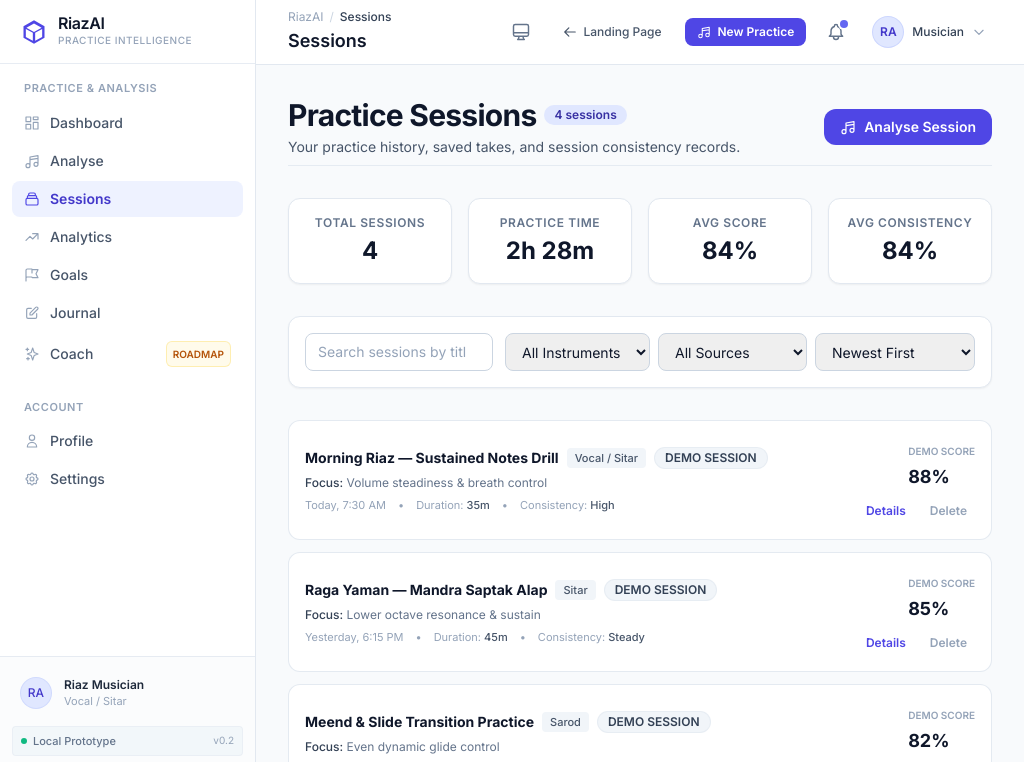
it: Milestone 5 — Sessions & Analytics › 3. Search and instrument filtering in Sessions works correctly
Search by title
Type "Yaman" into the search field labelled "Search sessions by title or focus..." at (399,352), box [305,333,493,371]
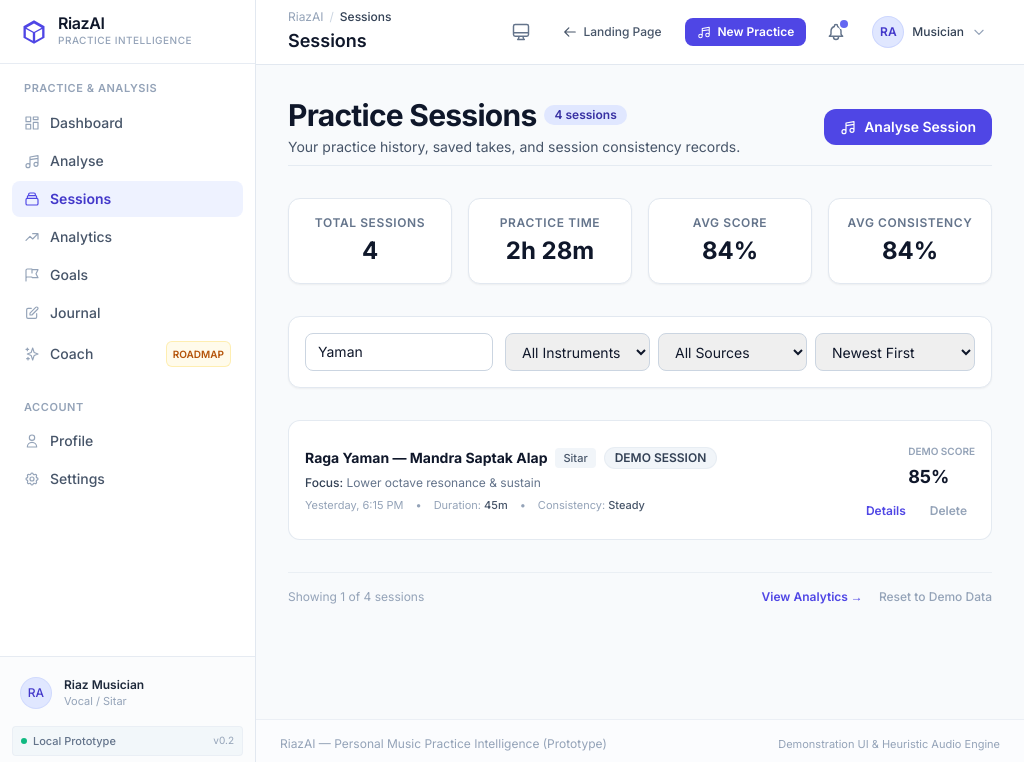
Expected: the heading "Raga Yaman — Mandra Saptak Alap" is shown, [305,448,548,468]
Expected: the heading "Morning Riaz — Sustained Notes Drill" is gone
Clear search
Clear the search field named "Search sessions" at (399,352), box [305,333,493,371]
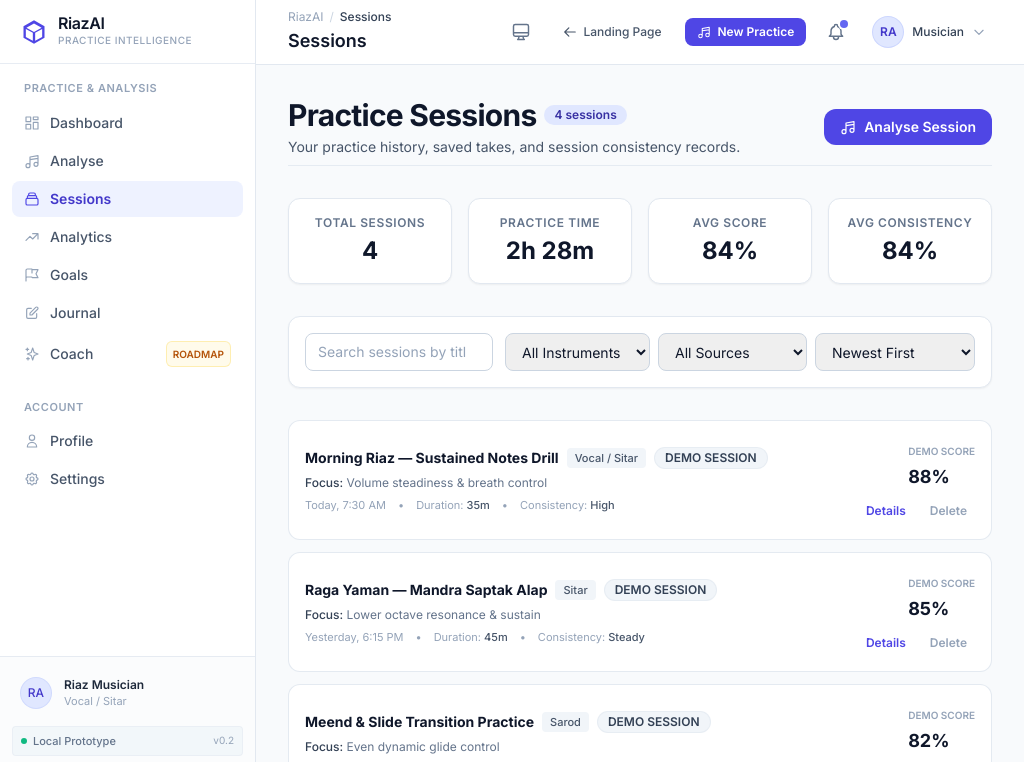
Filter by instrument
Select "Vocal" in the dropdown named "Filter by instrument" at (578,352), box [505,333,650,371]
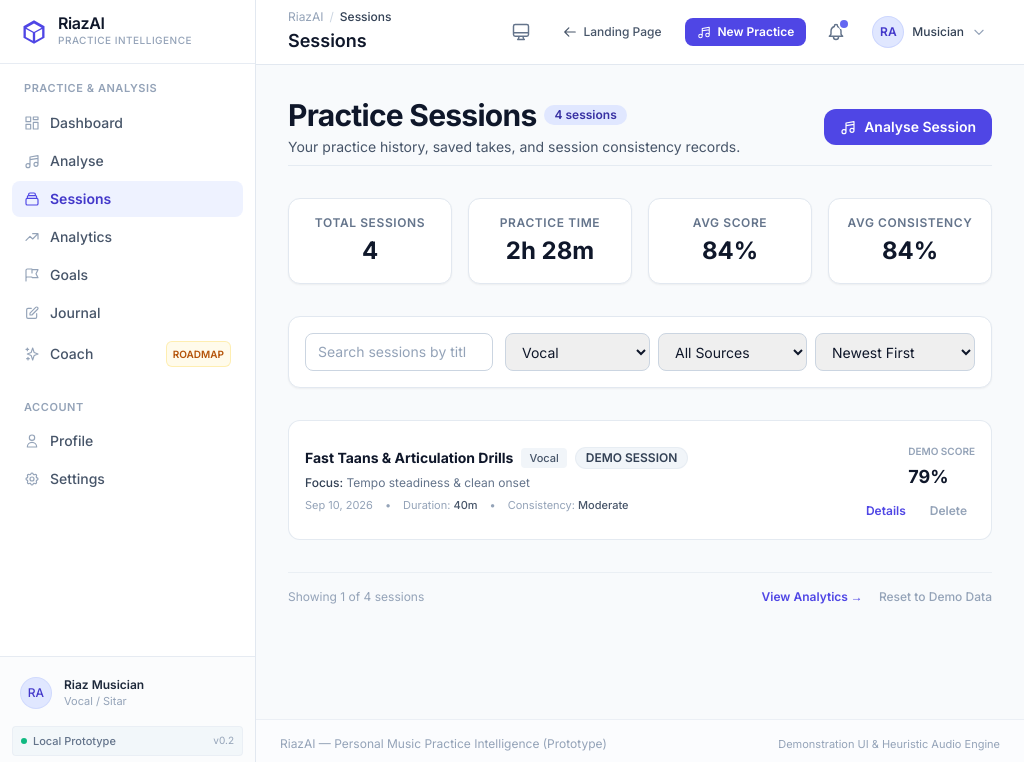
Expected: the heading "Fast Taans & Articulation Drills" is shown, [305,448,513,468]
Expected: the heading "Raga Yaman — Mandra Saptak Alap" is gone
